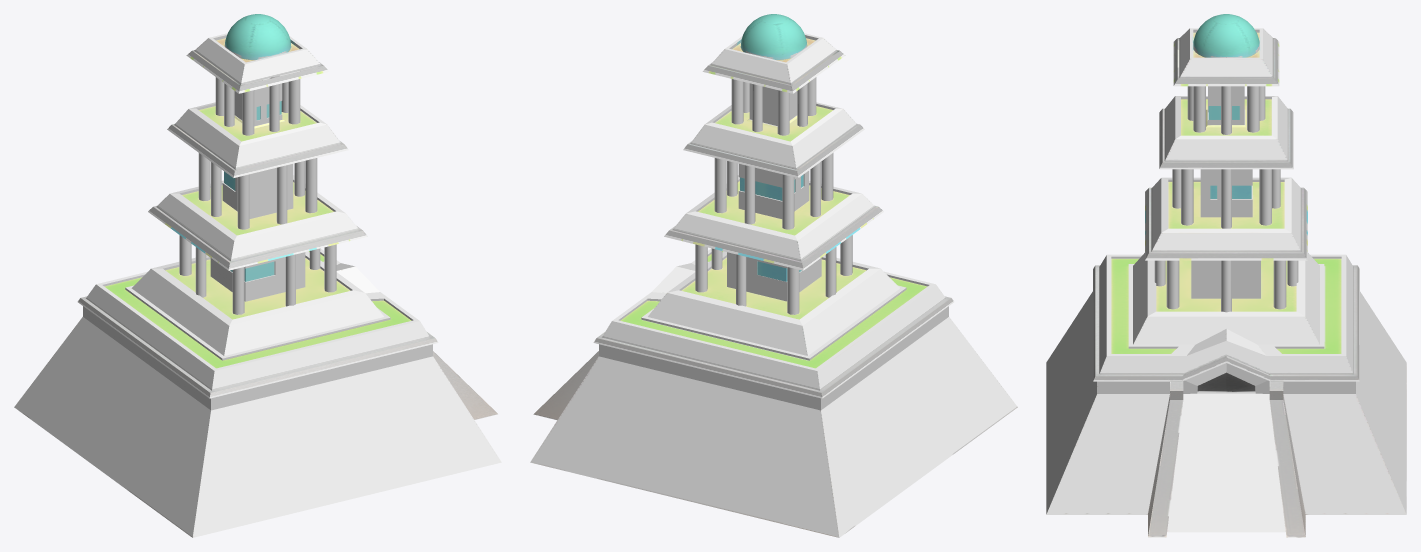
Rendered from BuildingsResidentialA.fbx.
3 views of the same model, side by side, from view 1: azimuth 30°, elevation 25°; view 2: azimuth 150°, elevation 25°; view 3: azimuth 270°, elevation 25° (orthographic).
Visible parts, largest first — view 1: Cube.008; view 2: Cube.008; view 3: Cube.008.
Boxes of the visible parts, x1,y1,x2,y2 form: Cube.008: (14, 14, 501, 537); Cube.008: (530, 14, 1017, 537); Cube.008: (1046, 14, 1406, 537).
Size of the model in its own units: 758 by 849 by 658.
1 material, 1 textured.
